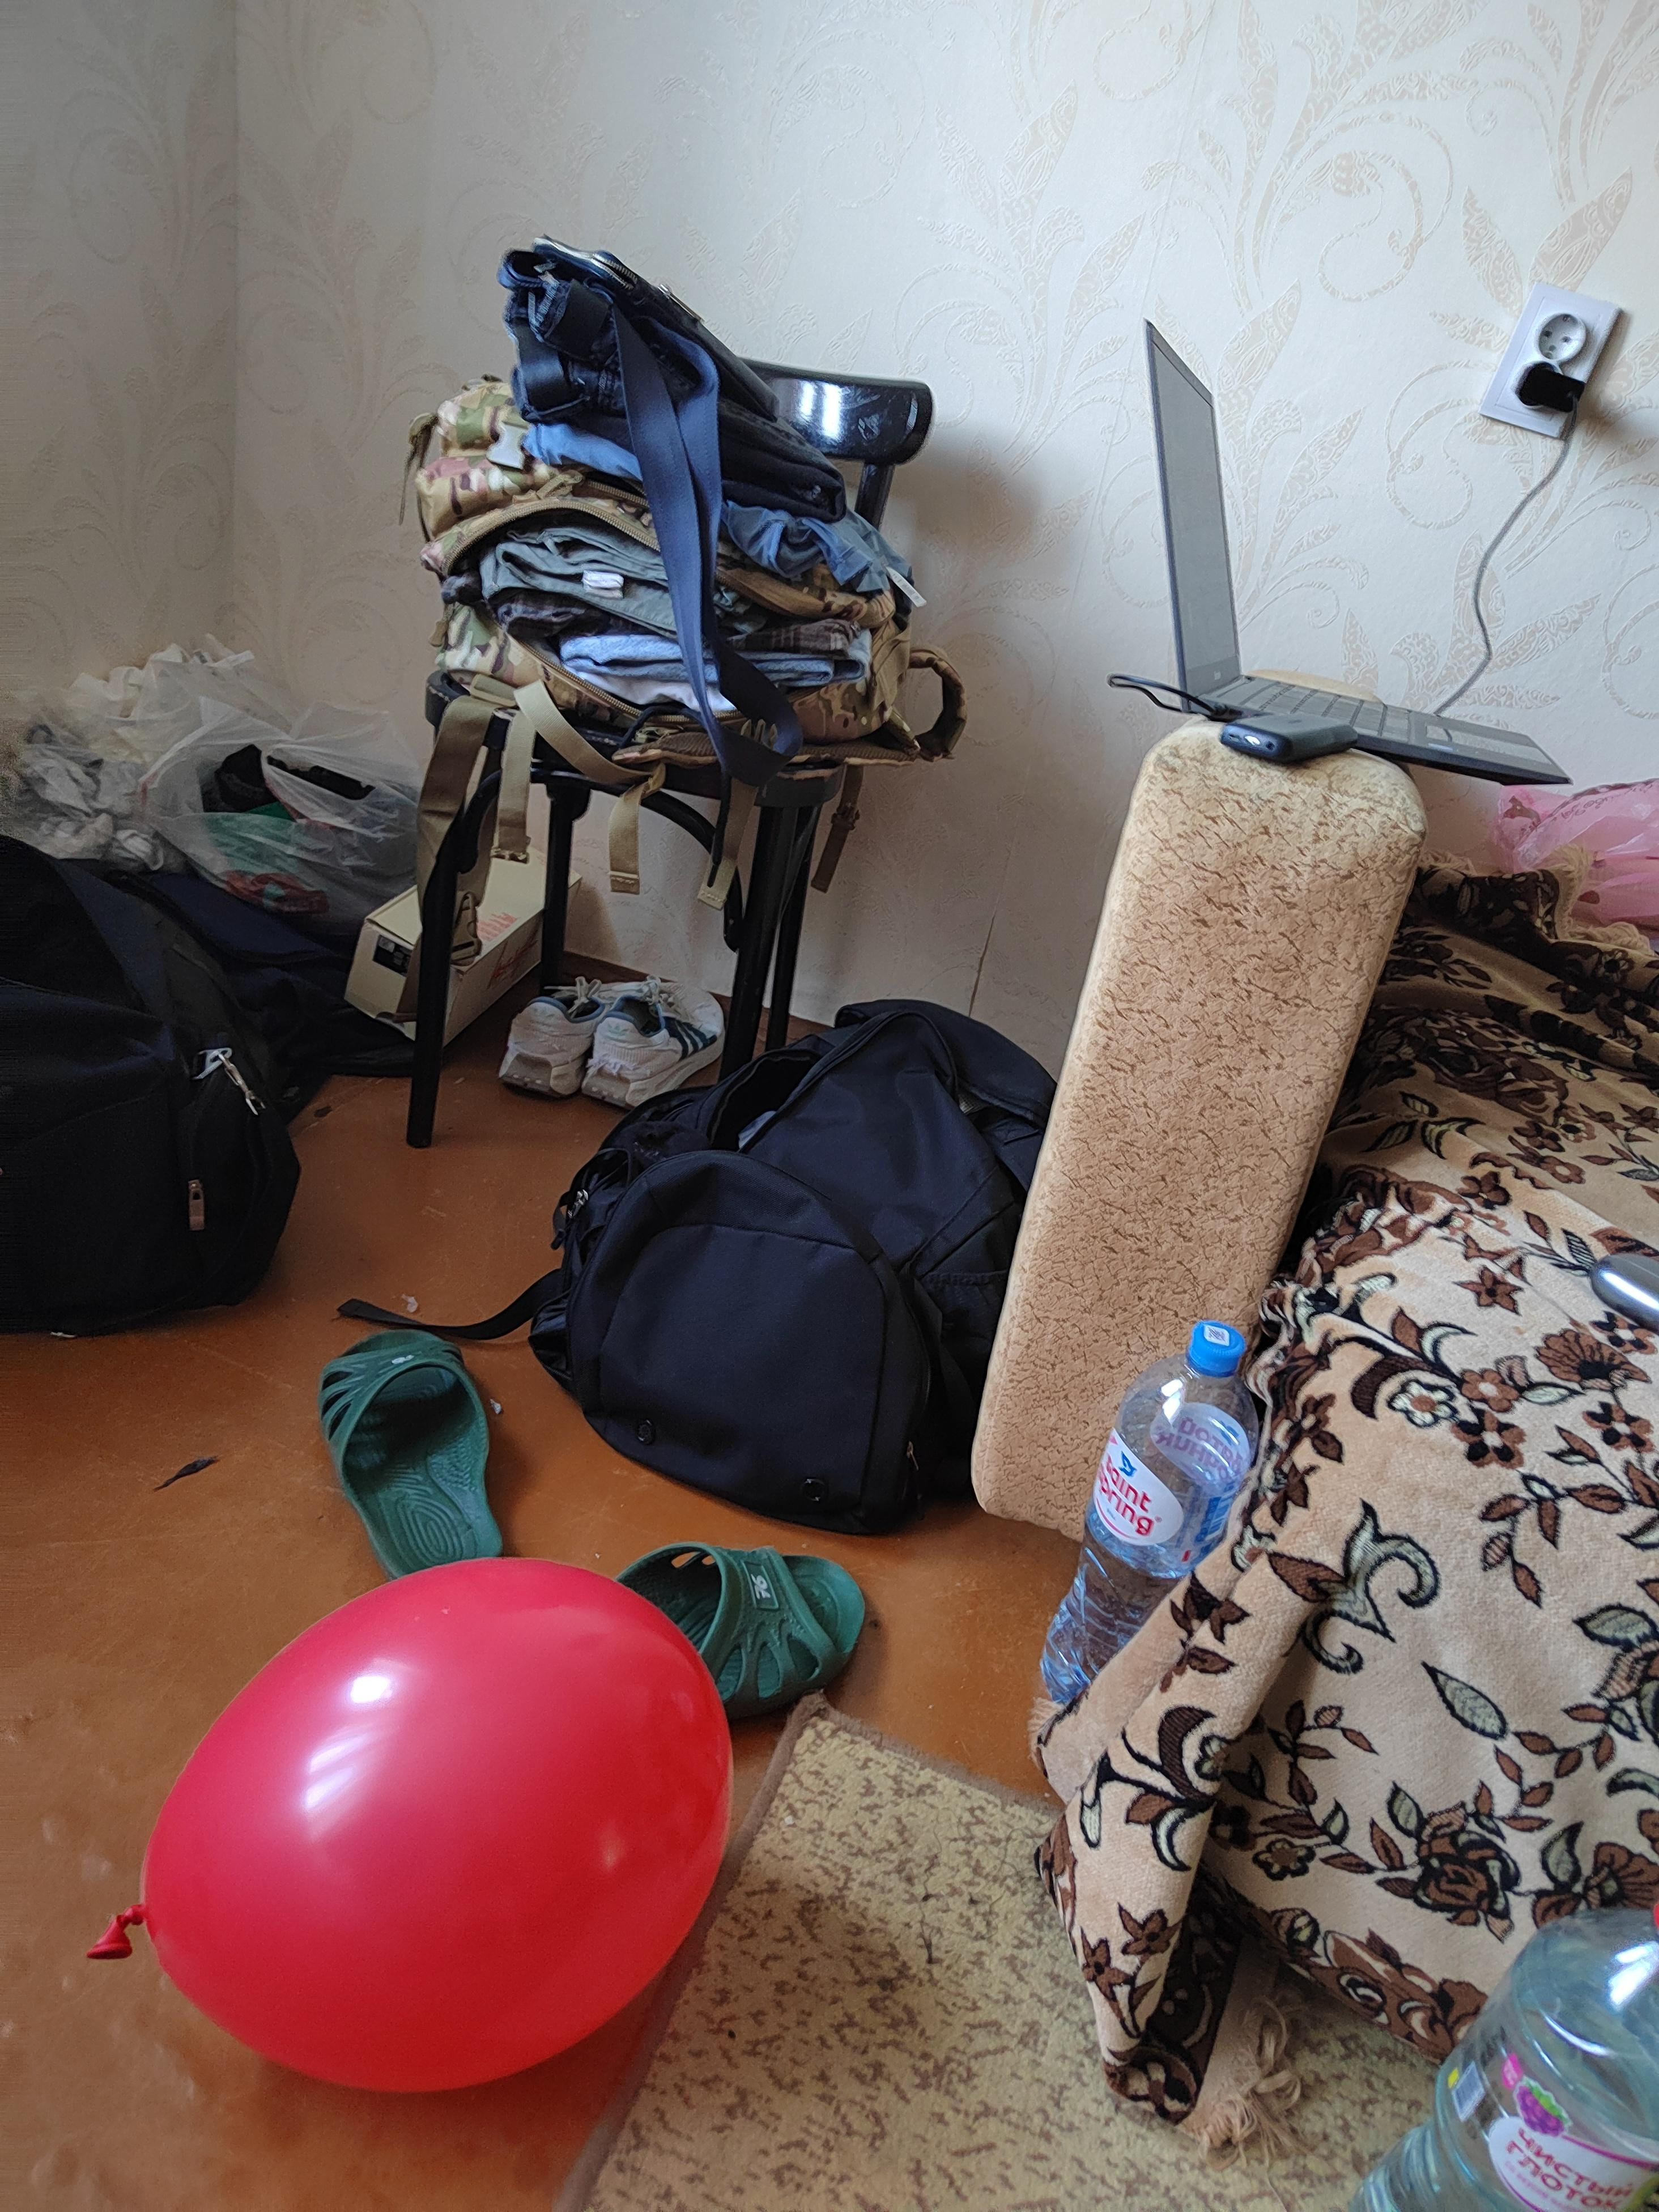red: (80, 1534, 755, 2114)
